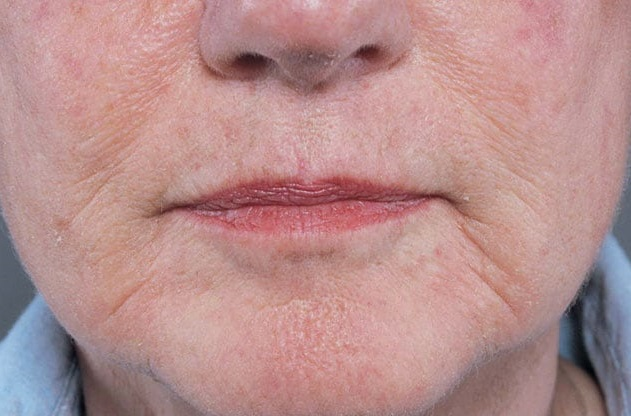Kerutan: (84, 1, 217, 340), (442, 175, 555, 346)
